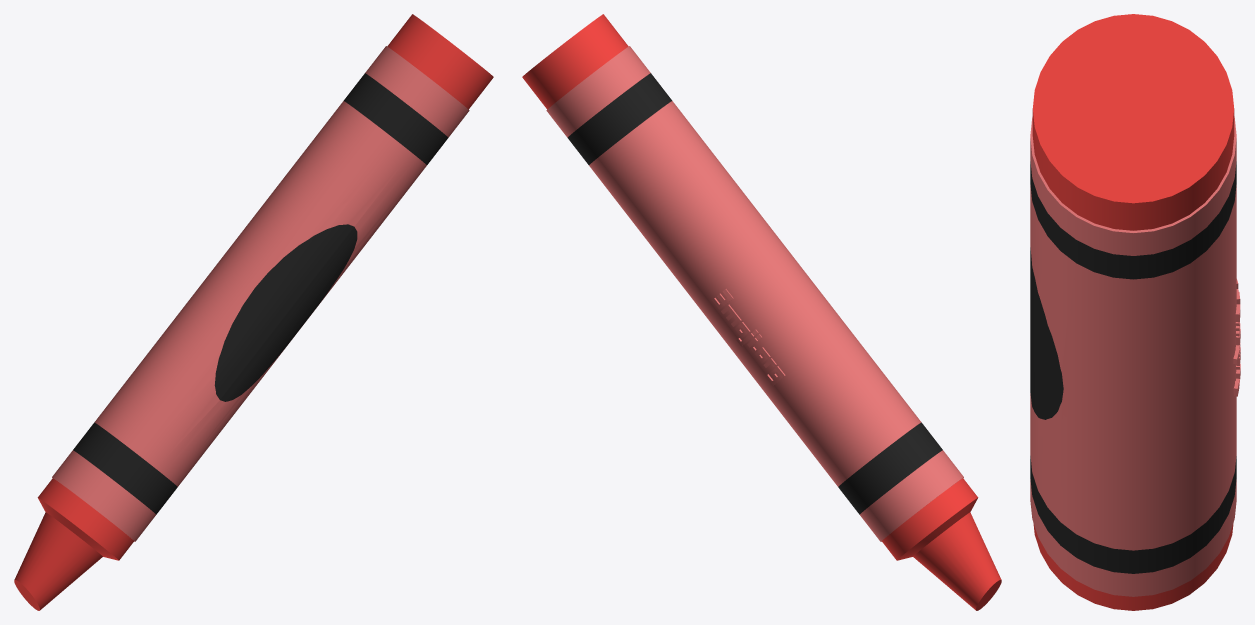
Rendered from crayon.gltf.
3 renders of one model, left to right at view 1: azimuth 30°, elevation 25°; view 2: azimuth 150°, elevation 25°; view 3: azimuth 270°, elevation 25°, orthographic. The views are drawn at different scales.
Visible parts, largest first — view 1: Cylinder.508; view 2: Cylinder.508; view 3: Cylinder.508.
Part boxes in pixels (bbox=[...]): Cylinder.508: bbox=[14, 14, 493, 610]; Cylinder.508: bbox=[522, 14, 1001, 610]; Cylinder.508: bbox=[1030, 14, 1240, 610].
Bounding box in the file's own units: 2.09 × 2.12 × 0.4195.
Materials: 1 (1 with a texture image).
